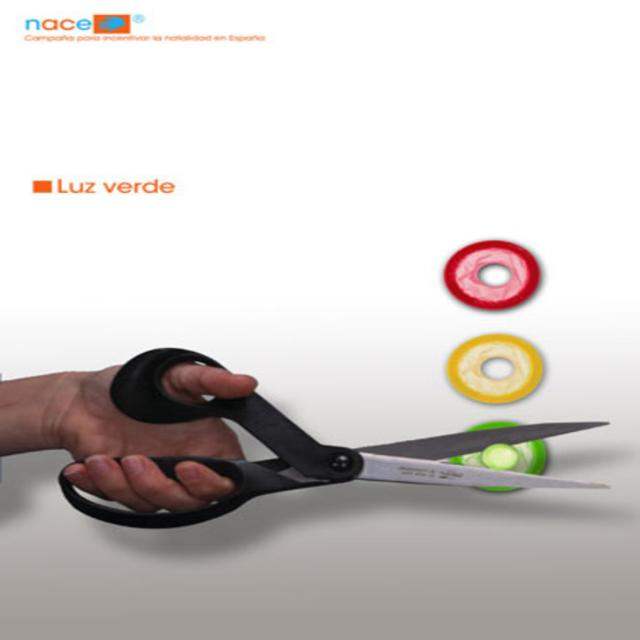scissors: (57, 346, 612, 529)
